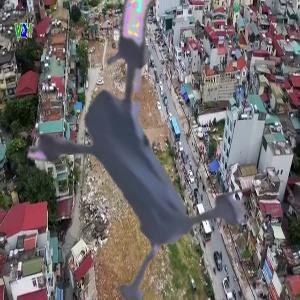drone: (12, 14, 295, 297)
